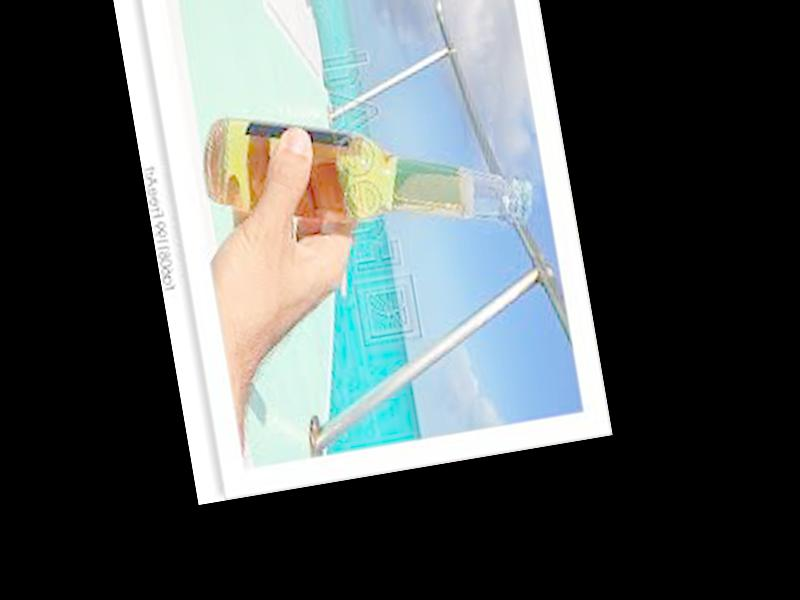Beer: (199, 67, 536, 282)
